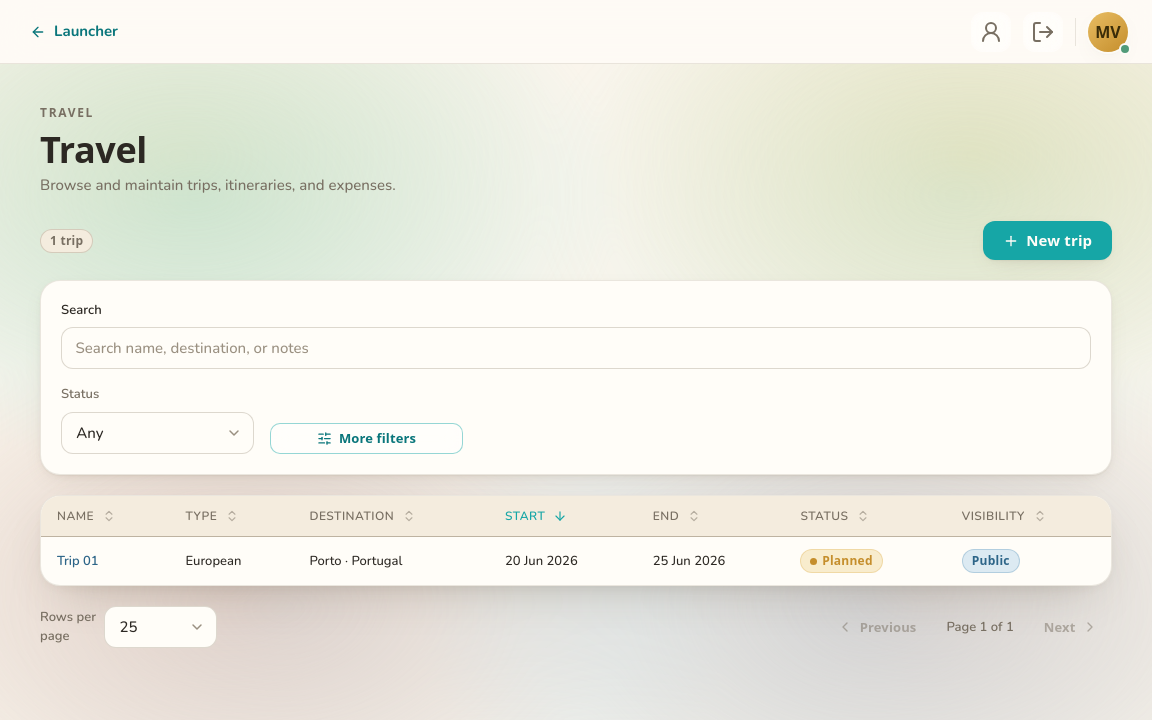
Test: Travel trips view › opens a trip with details and expenses in separate tabs
The image size is (1152, 720).
Click the button with aria-label "Open Trip 01": [78, 561] box 57,552 -> 99,571
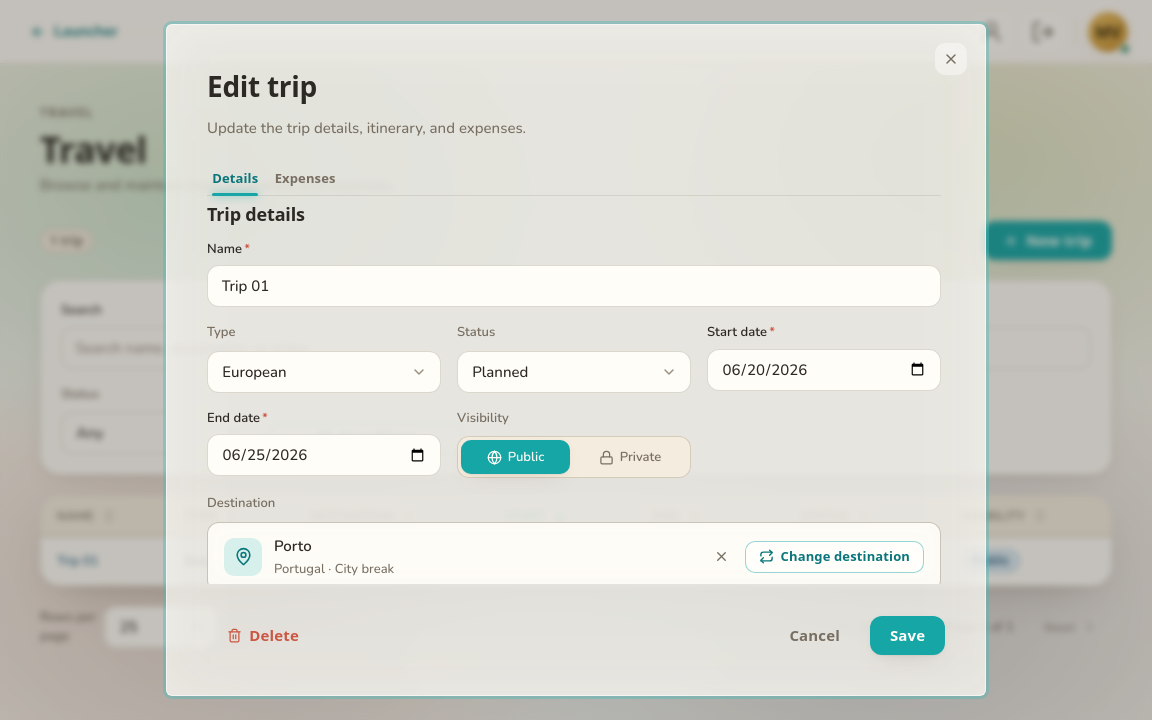
Expected: the text "Hotel Ribeira" is not shown
Expected: the text "Porto" is shown, 274,536 -> 312,556
Click the tab "Expenses": [305, 178] box 270,160 -> 341,196
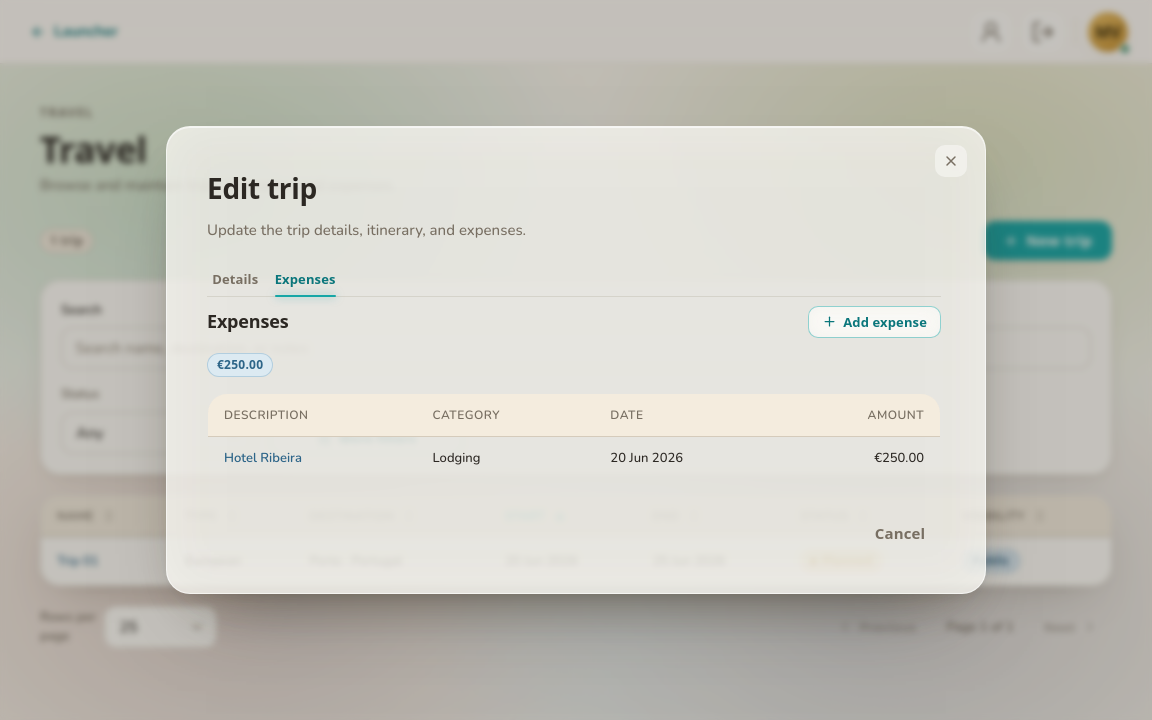
Expected: the button "Hotel Ribeira" is shown, 224,450 -> 302,469
